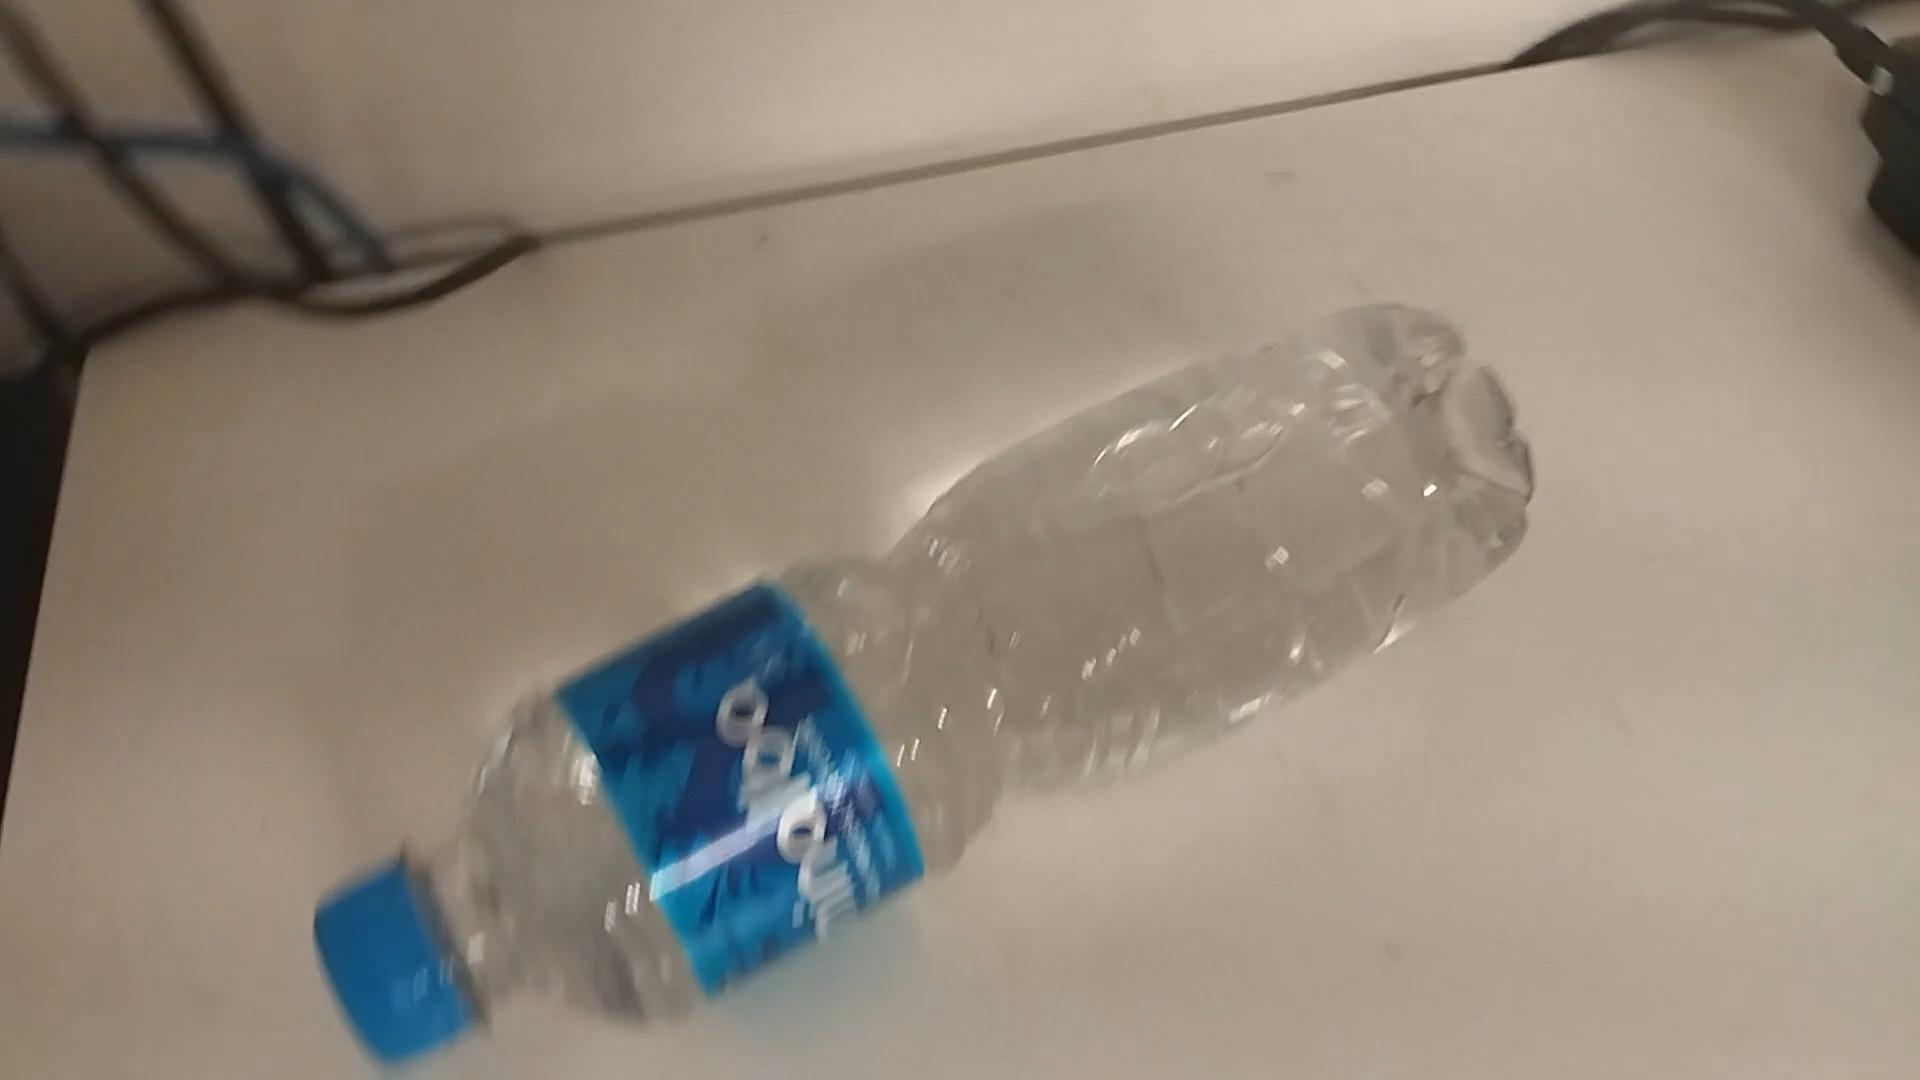agua: (342, 315, 1501, 1056)
